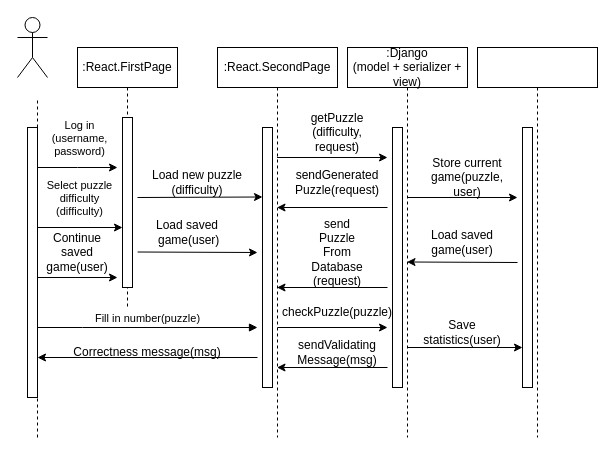
The diagram is 615 pixels wide and 456 high, and some of its shapes have lost their labels. Here are the shapes that lost their labels. From the top down, the centre of each, then its label:
At (x=32, y=47): "User".
At (x=537, y=242): ":Database".
